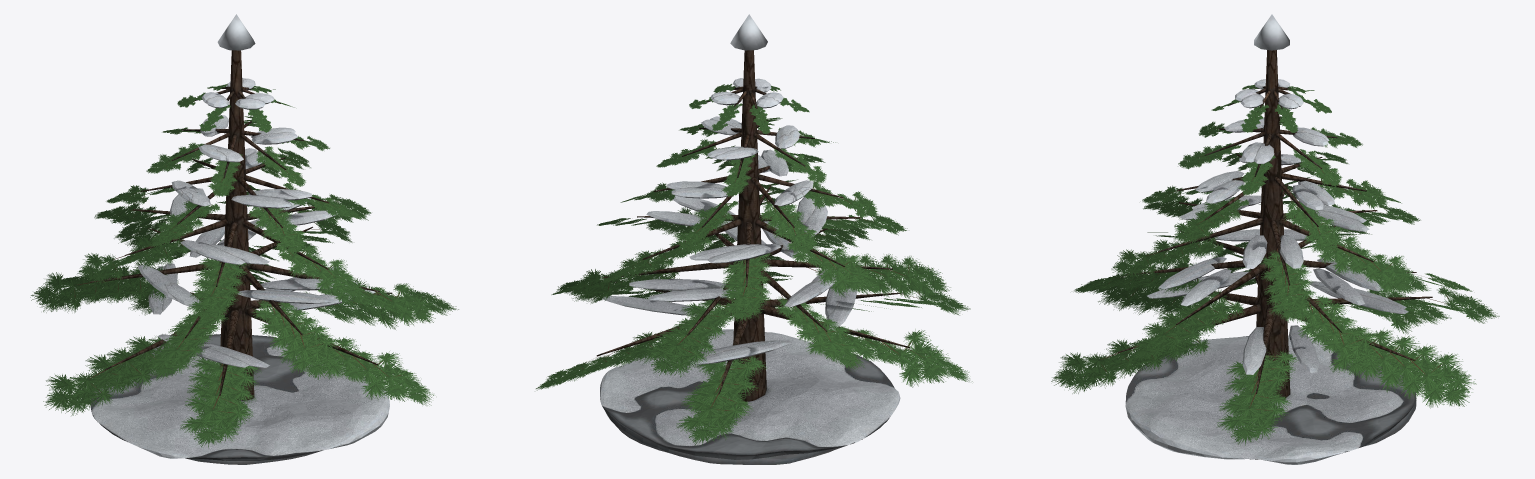
Rendered from geada_arvore_neve_a.glb.
The picture shows the model from 3 angles, left to right: view 1: azimuth 30°, elevation 25°; view 2: azimuth 150°, elevation 25°; view 3: azimuth 270°, elevation 25°; orthographic projection.
Parts seen in each view (by area): view 1: agulhas, geada_arvore_neve_a_tronco; view 2: geada_arvore_neve_a_tronco, agulhas; view 3: geada_arvore_neve_a_tronco, agulhas.
Boxes of the visible parts, x1=… form: agulhas: x1=30, y1=83, x2=458, y2=447; geada_arvore_neve_a_tronco: x1=90, y1=14, x2=392, y2=464; geada_arvore_neve_a_tronco: x1=596, y1=14, x2=910, y2=464; agulhas: x1=536, y1=84, x2=972, y2=445; geada_arvore_neve_a_tronco: x1=1117, y1=14, x2=1432, y2=464; agulhas: x1=1051, y1=84, x2=1499, y2=445.
Size of the model in its own units: 8.09 by 6.92 by 7.85.
Materials: 2 (2 with a texture image).
